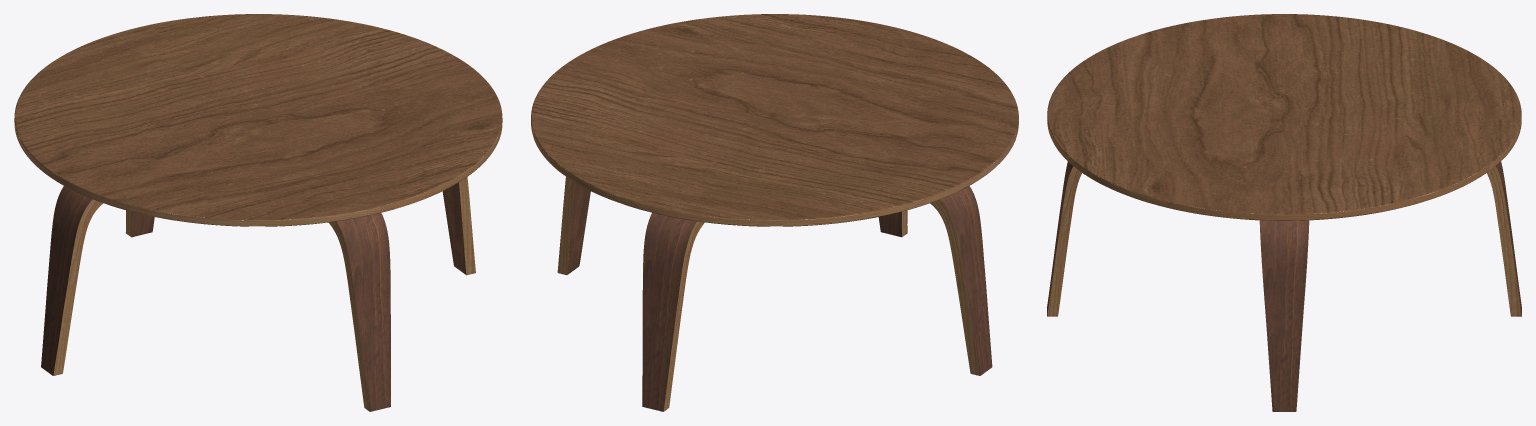
Rendered from Finnur.glb.
3 renders of one model, left to right at view 1: azimuth 30°, elevation 25°; view 2: azimuth 150°, elevation 25°; view 3: azimuth 270°, elevation 25°, orthographic. The views are drawn at different scales.
Visible parts, largest first — view 1: not_clear_obj_2_v6, not_clear_obj_0_v6, not_clear_obj_1_v6; view 2: not_clear_obj_2_v6, not_clear_obj_0_v6, not_clear_obj_1_v6; view 3: not_clear_obj_2_v6, not_clear_obj_0_v6, not_clear_obj_1_v6.
Boxes of the visible parts, x1,y1,x2,y2 form: not_clear_obj_2_v6: (14,14,502,226); not_clear_obj_0_v6: (41,182,466,411); not_clear_obj_1_v6: (14,118,502,411); not_clear_obj_2_v6: (531,14,1018,226); not_clear_obj_0_v6: (567,182,992,411); not_clear_obj_1_v6: (531,114,1018,411); not_clear_obj_2_v6: (1047,14,1521,220); not_clear_obj_0_v6: (1047,161,1521,411); not_clear_obj_1_v6: (1047,118,1521,397).
Size of what is drawn, in the model's own units: 0.8699 by 0.4001 by 0.8699.
Materials: 3 (3 with a texture image).
